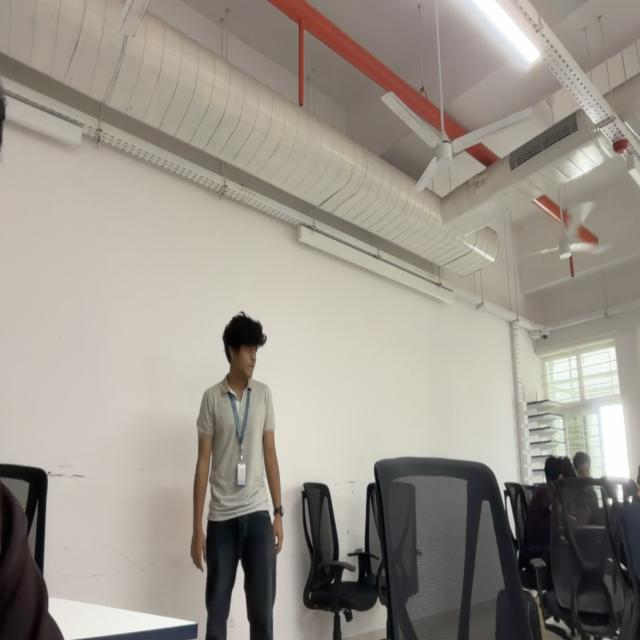kshitij: (223, 314, 266, 380)
